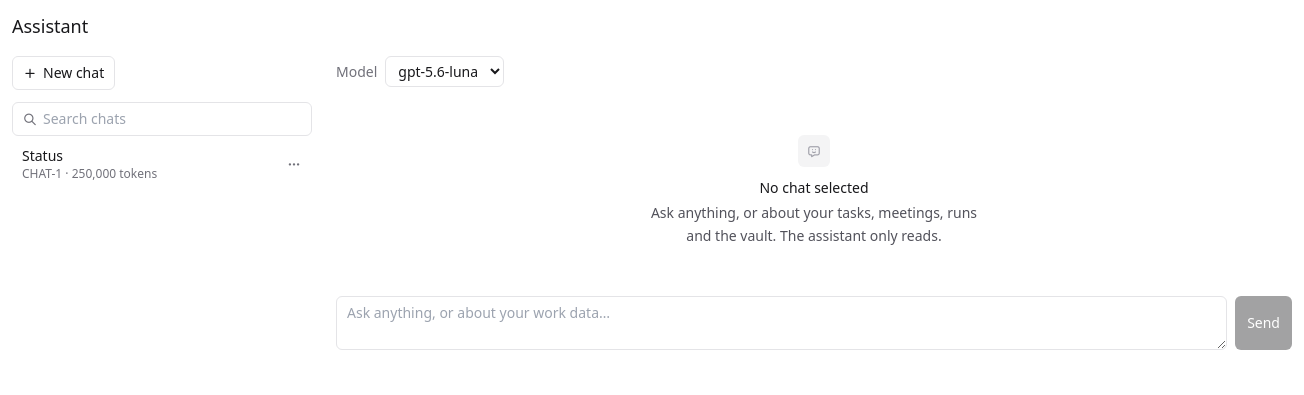
Scenario: budget › shows the warning at 250000 / 300000 tokens
Click the button "Status CHAT-1 · 250,000 tokens" at (144, 164), box [12,140,276,188]
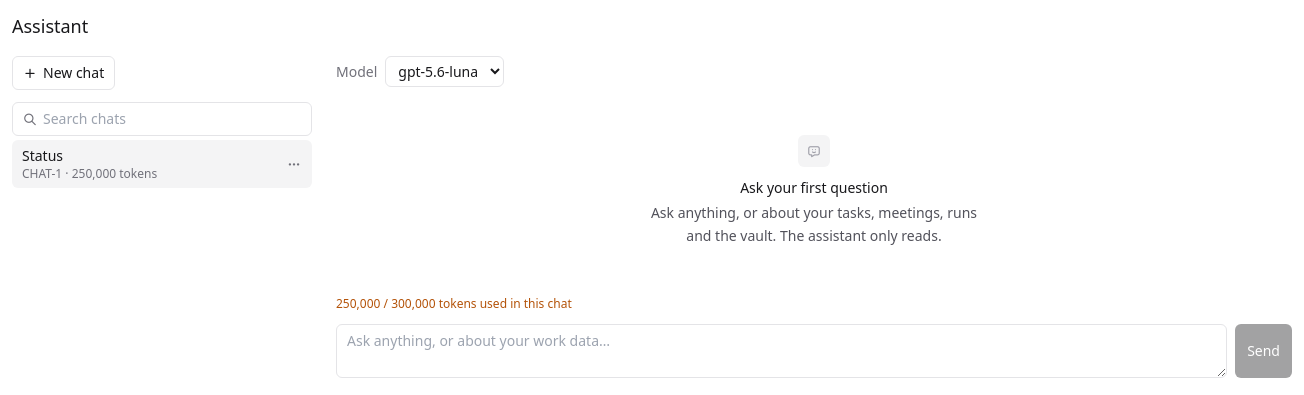
Now the text "250,000 / 300,000 tokens used in this chat" is shown, box [336,294,572,312]
